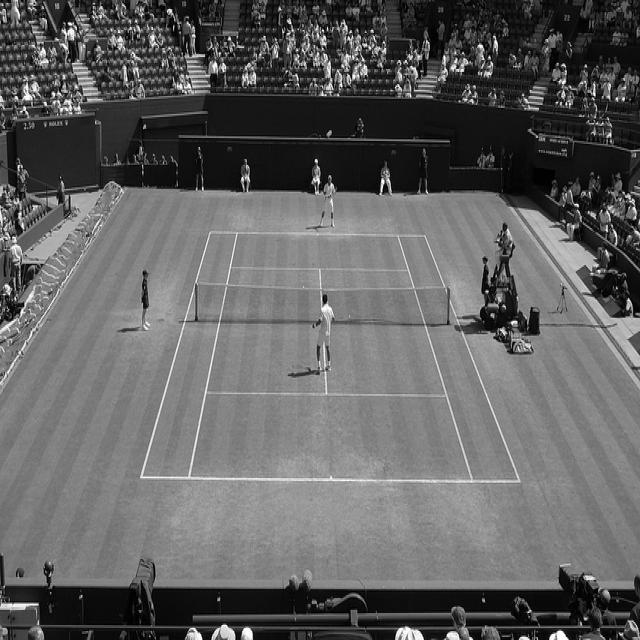monkey: (1, 0, 639, 640), (310, 293, 336, 374), (319, 174, 337, 229), (141, 270, 151, 331), (194, 145, 205, 192), (378, 161, 392, 196), (502, 218, 514, 255), (311, 158, 322, 196), (482, 255, 490, 305), (620, 291, 634, 319), (240, 159, 250, 193), (566, 182, 575, 212), (264, 47, 272, 68), (292, 48, 300, 69), (463, 84, 471, 102)
